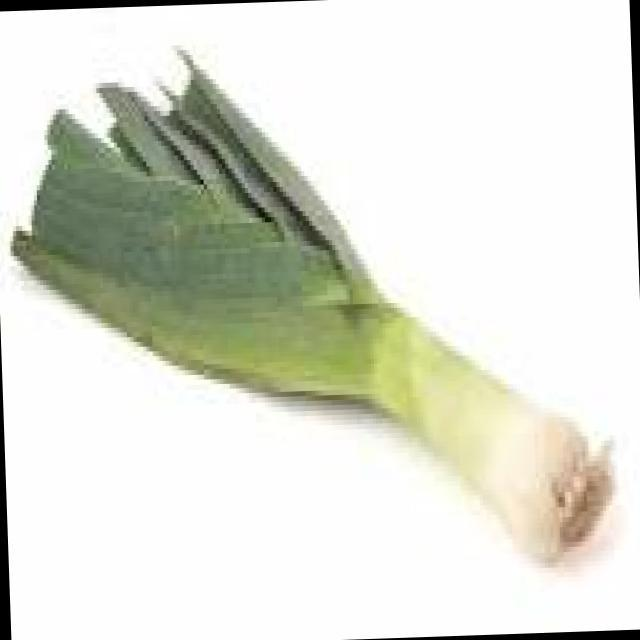Green Onions: (0, 25, 627, 611)
